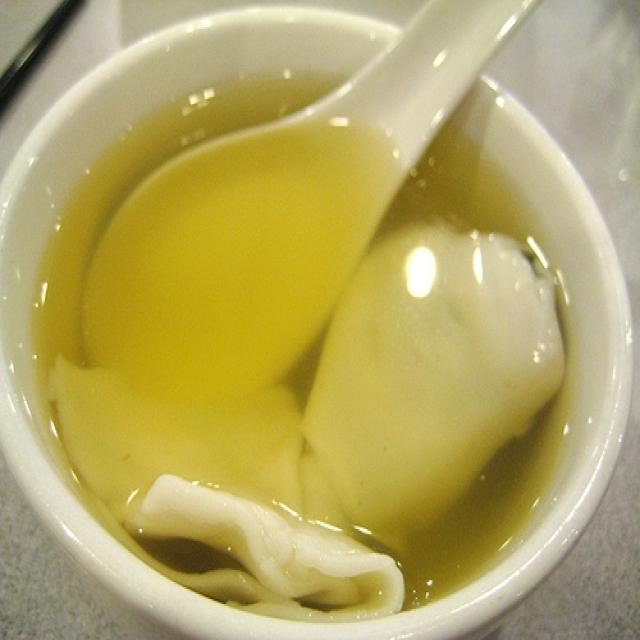汤锅炖物: (26, 34, 599, 609)
